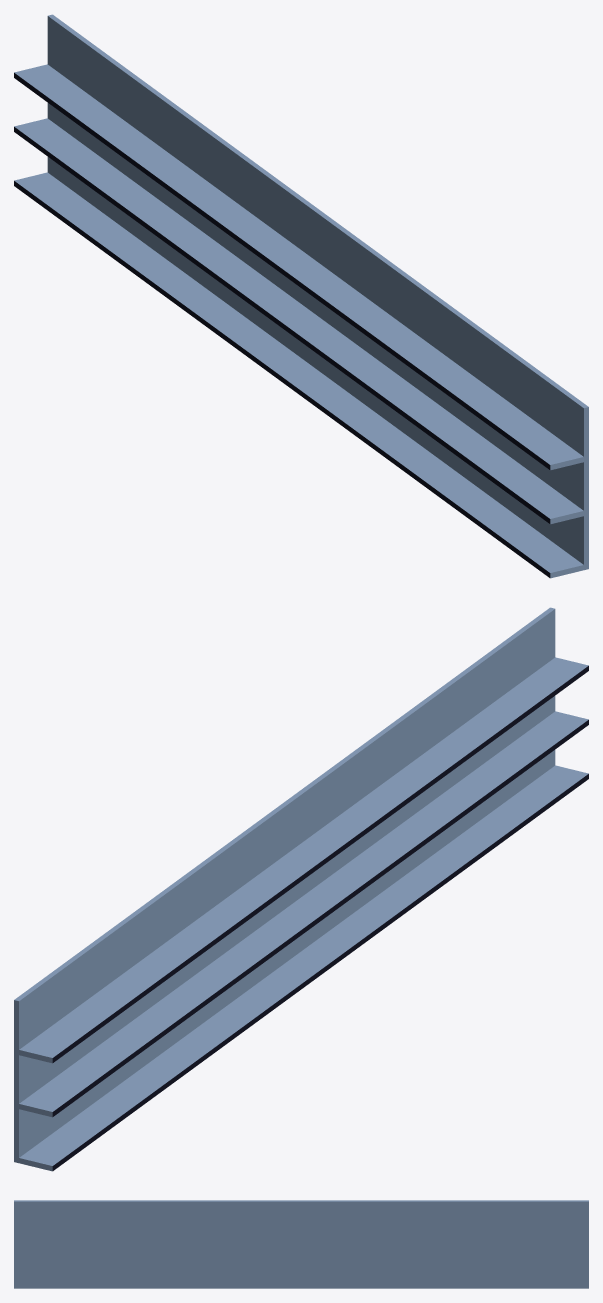
Rendered from kast_12.obj.
3 views of the same model, one above another, from view 1: azimuth 30°, elevation 25°; view 2: azimuth 150°, elevation 25°; view 3: azimuth 270°, elevation 25° (orthographic). The views are drawn at different scales.
Visible parts, largest first — view 1: Cube.004_Cube.019; view 2: Cube.004_Cube.019; view 3: Cube.004_Cube.019.
Part boxes in pixels (bbox=[...]): Cube.004_Cube.019: bbox=[14, 14, 588, 578]; Cube.004_Cube.019: bbox=[14, 607, 588, 1171]; Cube.004_Cube.019: bbox=[14, 1200, 588, 1288].
Bounding box in the file's own units: 1 × 4 × 24.
